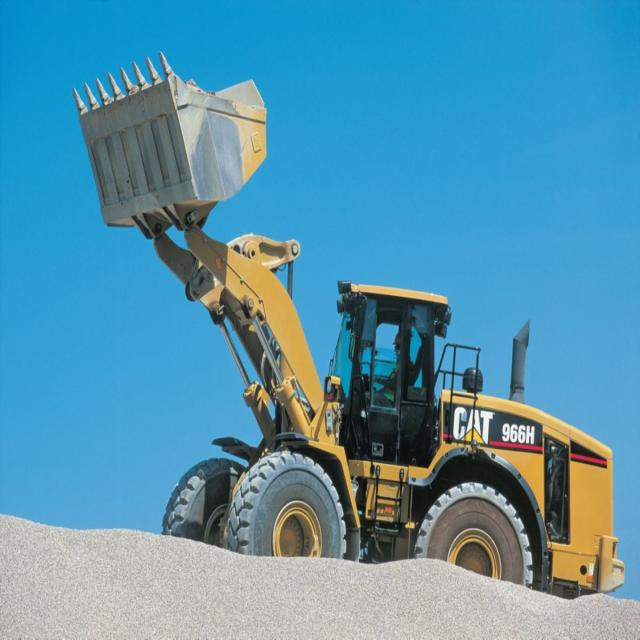buldozerpayloadergrader: (70, 45, 628, 606)
